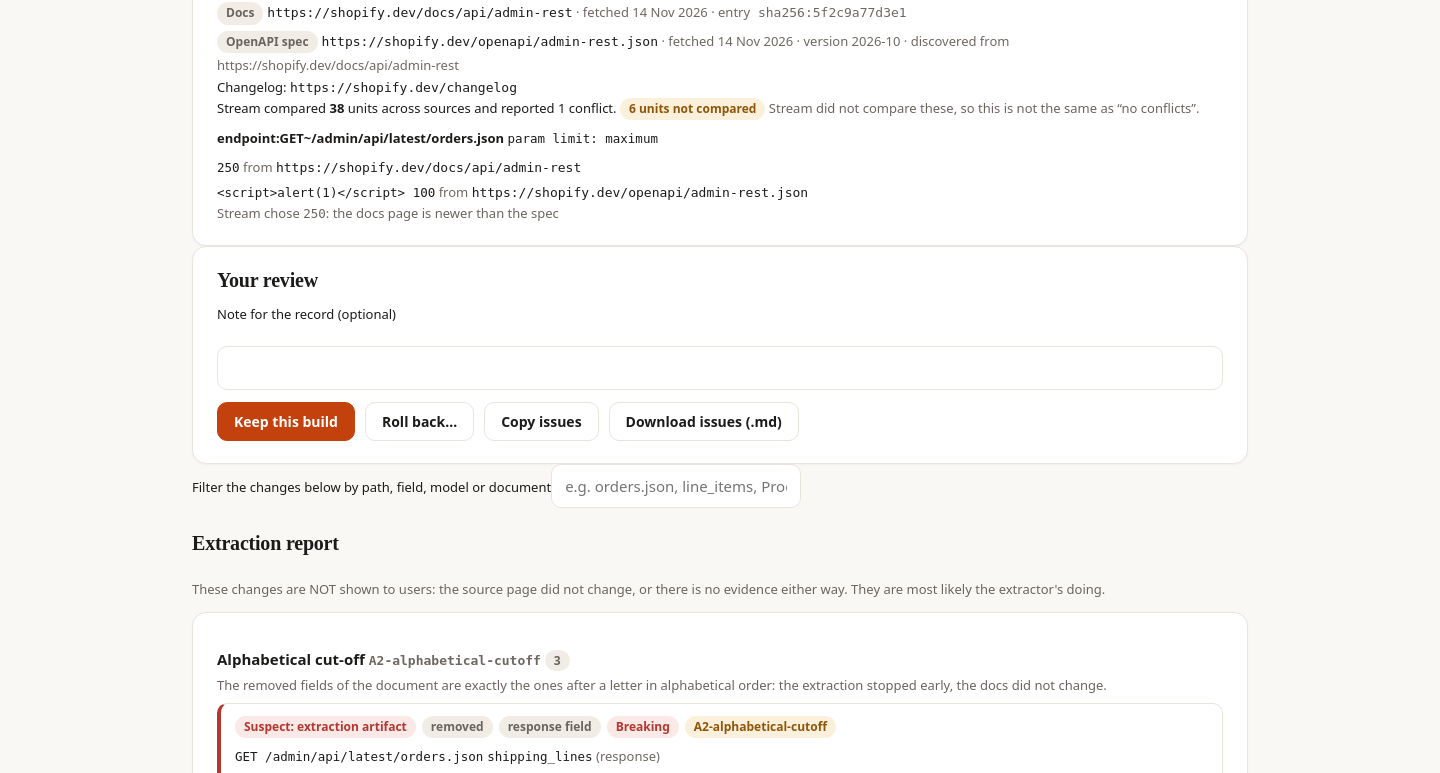
Test: the review of a build › Keep records the decision and the status becomes Kept
(page scrolled)
In the field labelled "Note for the record (optional)": [720, 368] box [217, 346, 1223, 390], type "Checked Order by hand"
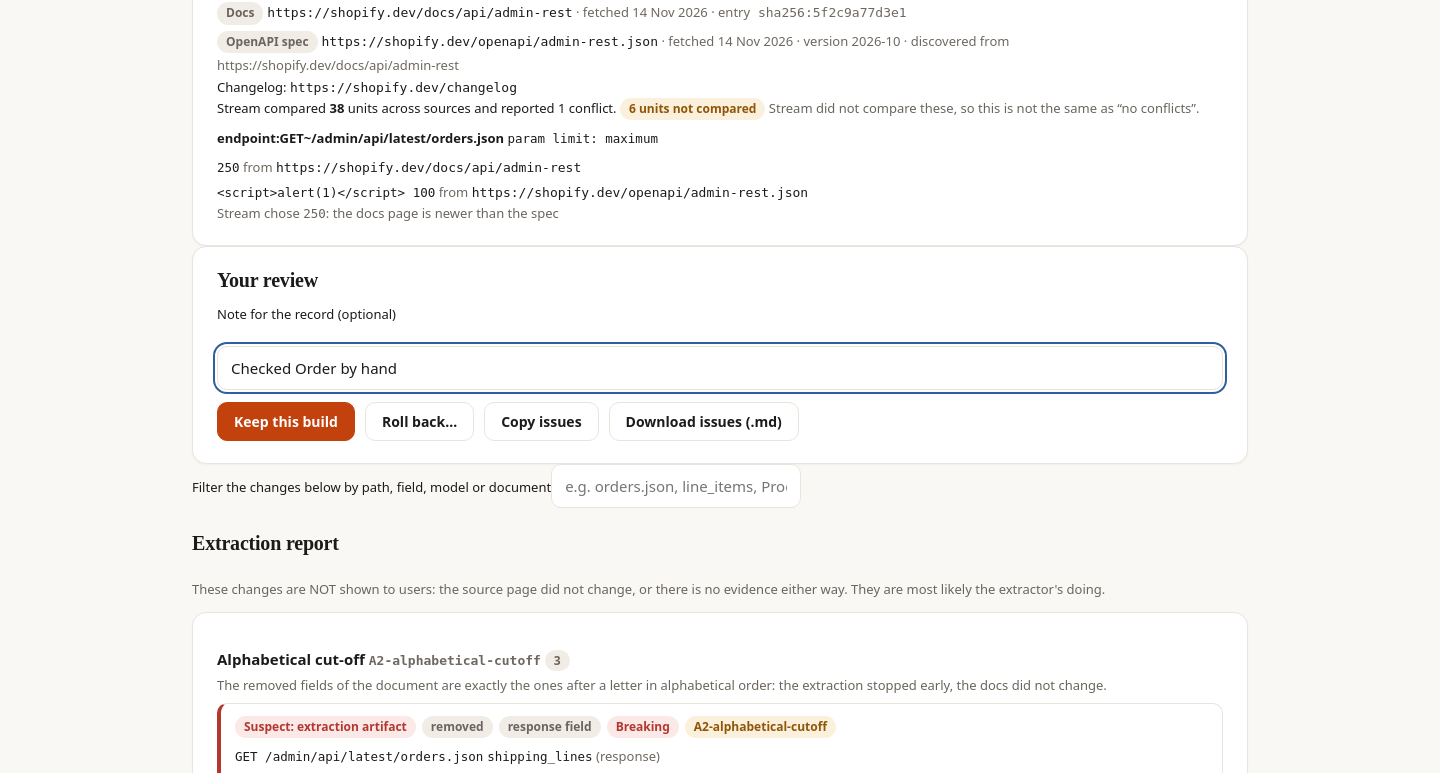
Click the button "Keep this build": [286, 422] box [217, 402, 355, 442]
(page scrolled)
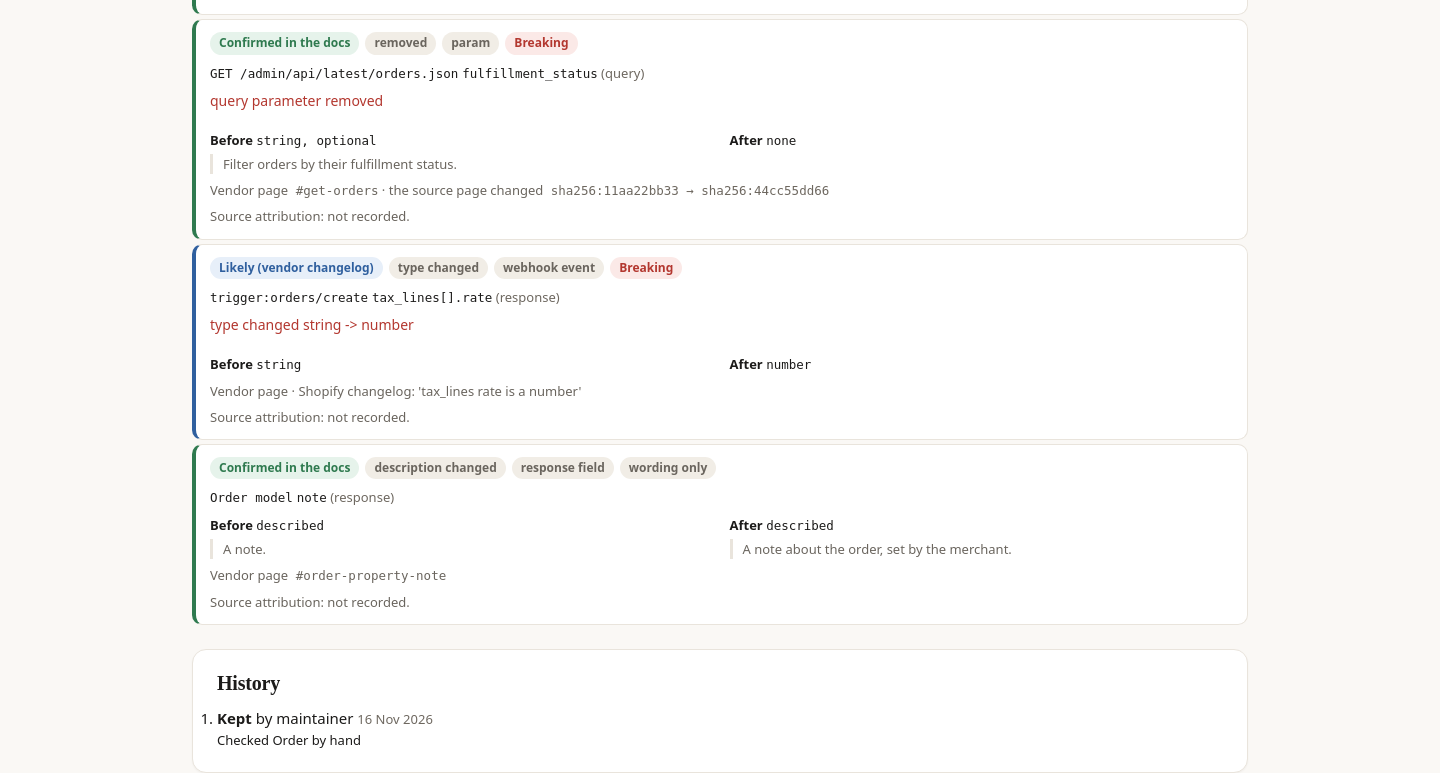
Now the button "Keep this build" is gone
Now the text "Checked Order by hand" is shown, box [217, 731, 361, 749]
Now the text "Kept" is shown, box [217, 708, 252, 728]
